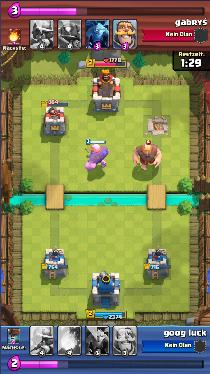ally_giant: (84, 143, 109, 171)
enemy_giant: (134, 143, 163, 170)
